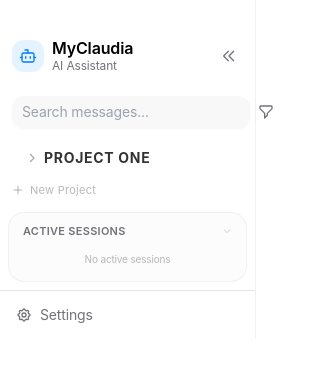
Sidebar › shows "No results" when search returns empty
Type "no match" into the field with placeholder "Search messages...".
click(131, 112); type("no match")  # box [12, 96, 250, 128]
Wait 350 ms
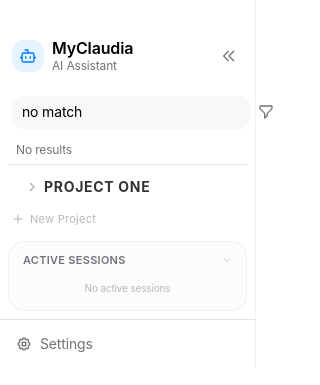
Expected: the text "No results" is shown, [16, 142, 72, 157]
